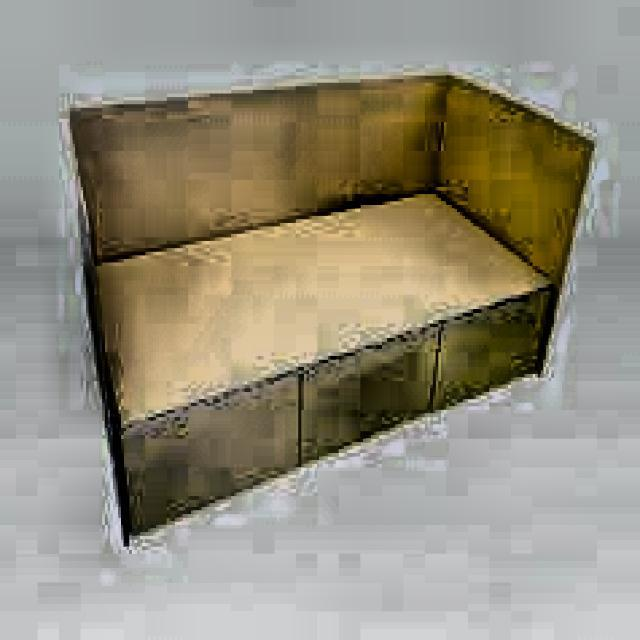cardboard: (62, 69, 597, 546)
